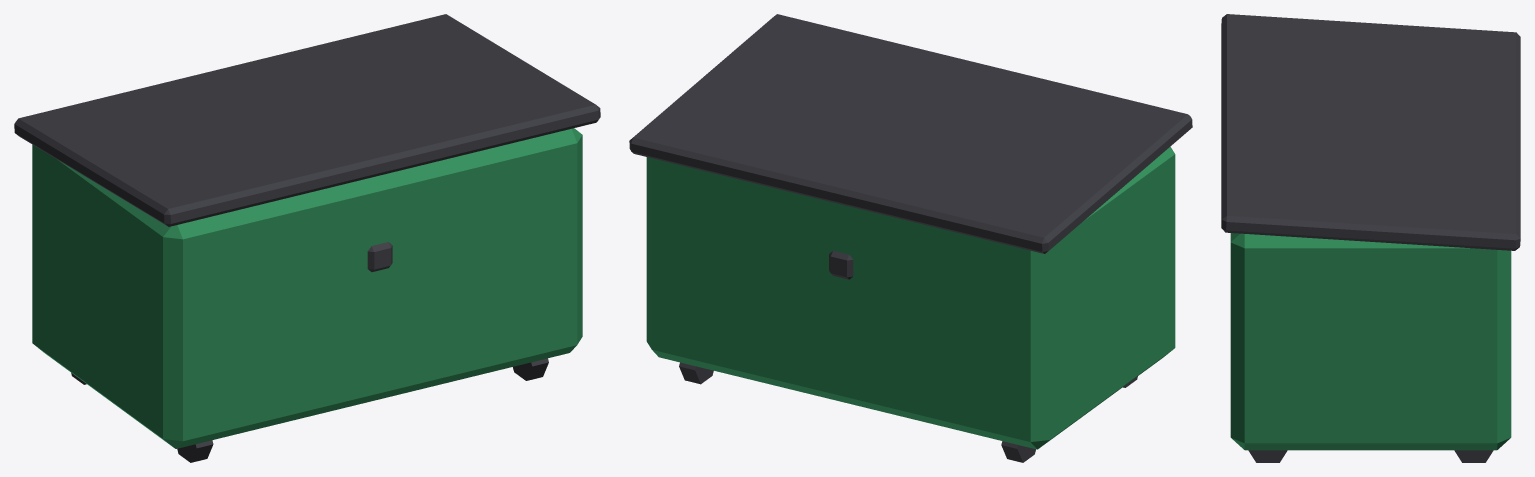
The model's file is Dumpster.fbx.
3 renders of one model, left to right at view 1: azimuth 30°, elevation 25°; view 2: azimuth 150°, elevation 25°; view 3: azimuth 270°, elevation 25°, orthographic. The views are drawn at different scales.
Parts seen in each view (by area): view 1: Dumpster; view 2: Dumpster; view 3: Dumpster.
Part boxes in pixels (bbox=[...]): Dumpster: bbox=[14, 14, 600, 462]; Dumpster: bbox=[629, 14, 1192, 462]; Dumpster: bbox=[1221, 14, 1520, 462].
Bounding box in the file's own units: 5.2 × 3.12 × 3.2.
Materials: 1 (1 with a texture image).
